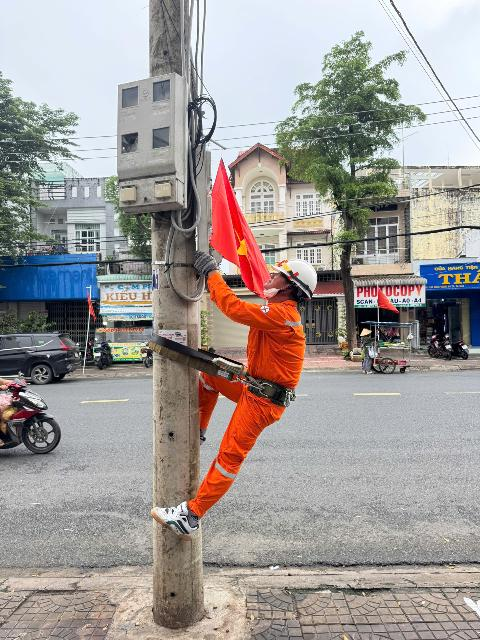gloves: (186, 245, 223, 285)
harness: (178, 329, 301, 414), (253, 246, 333, 303)
shoes: (139, 486, 202, 538)
